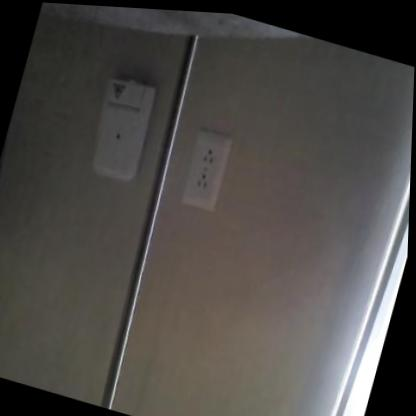OUTLET: (178, 125, 234, 214)
